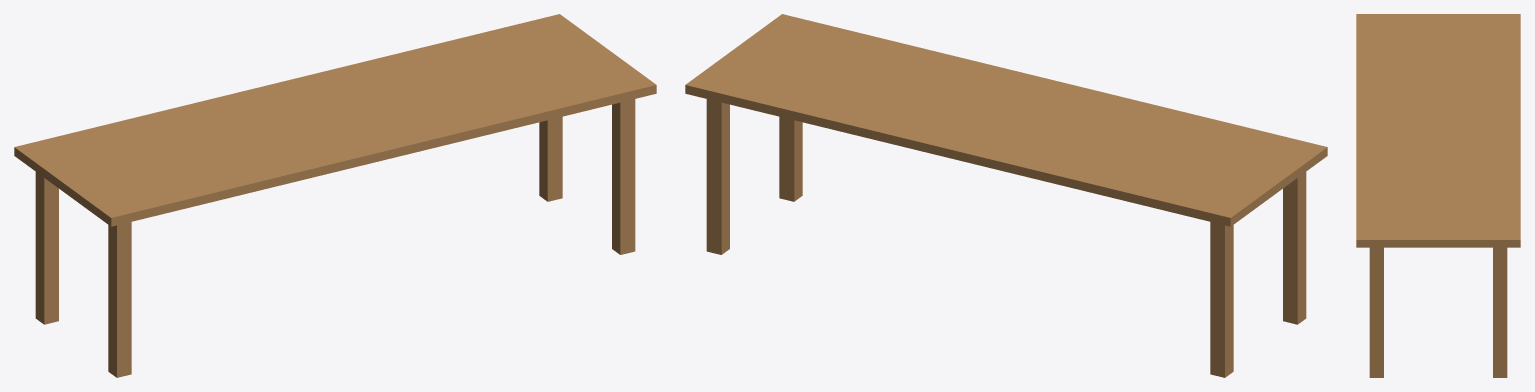
3 views of the same model, side by side, from view 1: azimuth 30°, elevation 25°; view 2: azimuth 150°, elevation 25°; view 3: azimuth 270°, elevation 25° (orthographic). The views are drawn at different scales.
Visible parts, largest first — view 1: mesa_barra; view 2: mesa_barra; view 3: mesa_barra.
Boxes of the visible parts, box(x1,y1,x2,y2) form: mesa_barra: box(14, 14, 656, 377); mesa_barra: box(685, 14, 1327, 377); mesa_barra: box(1356, 14, 1520, 377).
Size of the model in its own units: 2.6 by 0.8 by 0.77.
